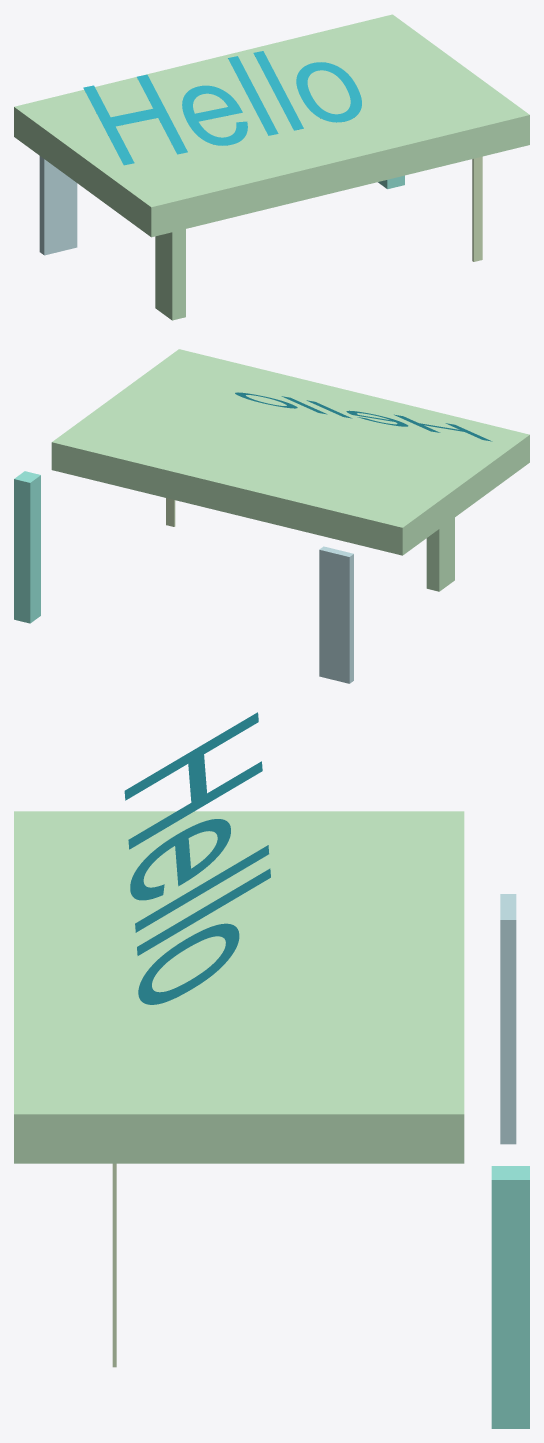
Rendered from tablehello.glb.
The picture shows the model from 3 angles, top to bottom: view 1: azimuth 30°, elevation 25°; view 2: azimuth 150°, elevation 25°; view 3: azimuth 270°, elevation 25°; orthographic projection. The views are drawn at different scales.
Parts seen in each view (by area): view 1: Box001, TextPlus001, Box004, Box003, Box002; view 2: Box001, Box004, Box005, Box003, TextPlus001; view 3: Box001, TextPlus001, Box005, Box004, Box002.
Boxes of the visible parts, x1,y1,x2,y2 form: Box001: (14, 14, 529, 237); TextPlus001: (83, 51, 361, 165); Box004: (39, 156, 77, 255); Box003: (155, 229, 185, 320); Box002: (472, 156, 482, 261); Box001: (51, 349, 529, 555); Box004: (319, 546, 353, 683); Box005: (14, 471, 40, 623); Box003: (426, 517, 454, 591); TextPlus001: (235, 392, 492, 441); Box001: (14, 811, 464, 1163); TextPlus001: (124, 712, 270, 1004); Box005: (491, 1166, 529, 1428); Box004: (500, 894, 516, 1144); Box002: (112, 1163, 116, 1367).
Size of the model in its own units: 0.0761 by 0.0447 by 0.0519.
